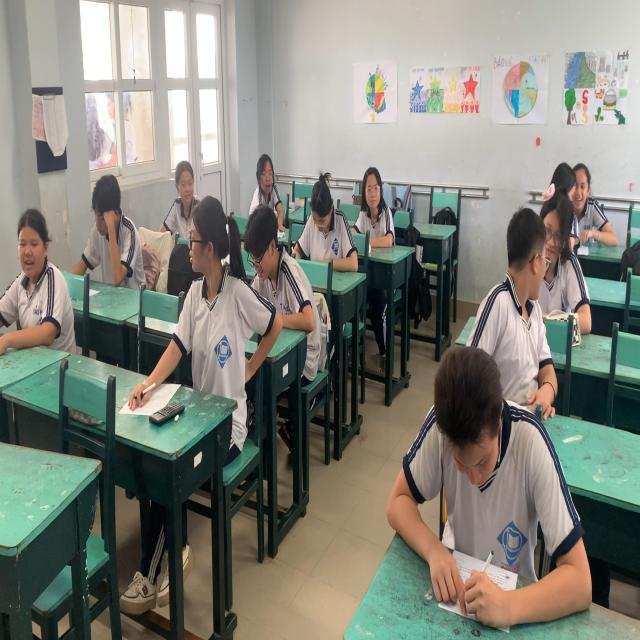cheating: (181, 192, 253, 388), (482, 215, 548, 406), (245, 157, 294, 215), (550, 157, 594, 215), (171, 153, 206, 208)
not_cheating: (401, 353, 562, 600), (8, 202, 74, 354), (302, 171, 356, 281), (90, 174, 138, 291), (240, 206, 300, 296), (352, 161, 399, 229)
